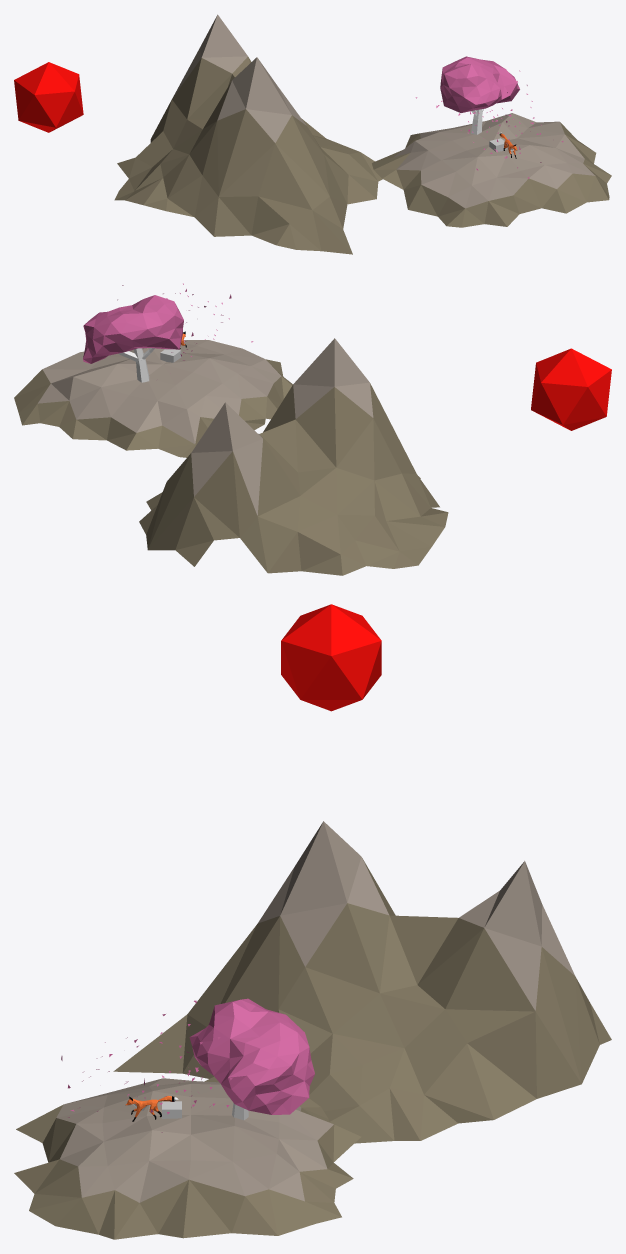
The model's file is Fox_scene.blend.dae.
The picture shows the model from 3 angles, top to bottom: view 1: azimuth 30°, elevation 25°; view 2: azimuth 150°, elevation 25°; view 3: azimuth 270°, elevation 25°; orthographic projection. The views are drawn at different scales.
Parts seen in each view (by area): view 1: Plane_001, Plane, Icosphere_001, Icosphere; view 2: Plane_001, Plane, Icosphere_001, Icosphere, Cylinder_001; view 3: Plane_001, Plane, Icosphere, Icosphere_001.
Boxes of the visible parts, x1,y1,x2,y2 form: Plane_001: [114, 14, 382, 254]; Plane: [372, 113, 611, 227]; Icosphere_001: [14, 62, 83, 132]; Icosphere: [415, 56, 563, 178]; Plane_001: [139, 338, 448, 575]; Plane: [14, 340, 292, 457]; Icosphere_001: [531, 348, 611, 430]; Icosphere: [83, 283, 253, 363]; Cylinder_001: [119, 348, 154, 382]; Plane_001: [113, 821, 611, 1143]; Plane: [14, 1076, 361, 1239]; Icosphere: [61, 998, 314, 1132]; Icosphere_001: [281, 604, 381, 711].
Bounding box in the file's own units: 92.77 × 60.17 × 32.92.
Materials: 7 (3 with a texture image).
